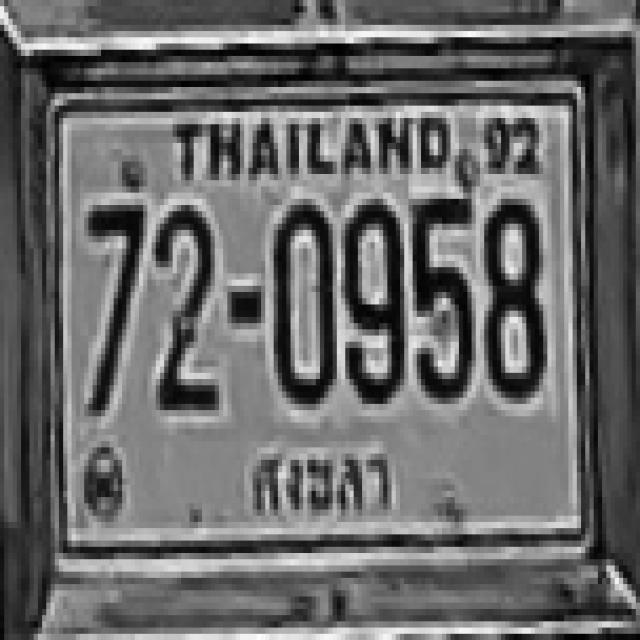0: (270, 199, 332, 398)
2: (152, 202, 210, 407)
5: (408, 192, 472, 398)
7: (84, 199, 143, 410)
8: (480, 192, 543, 392)
9: (341, 192, 400, 398)
Songkhla: (233, 446, 402, 535)
